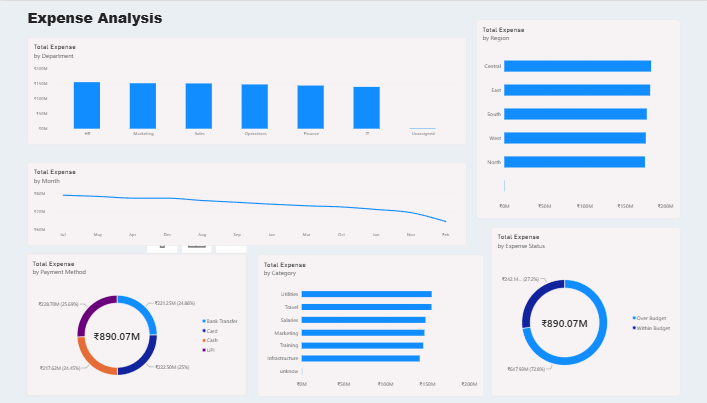

The page's visual inventory and layout, read from the dashboard file:
{"tool":"powerbi","page":{"name":"Page 2","canvas":[1900,1080],"ordinal":1},"visuals":[{"type":"textbox","box":[10.3,0,279.9,98.8],"z":0},{"type":"textbox","box":[74,18,1846,154],"z":1000},{"type":"barChart","fields":{"Category":["Financial_Expenses.Category"],"Y":["Financial_Expenses.Total Expense"]},"box":[688,676,604,378],"z":2000},{"type":"columnChart","fields":{"Category":["Financial_Expenses.Department"],"Y":["Financial_Expenses.Total Expense"]},"box":[74,96,1170,286],"z":3000},{"type":"barChart","fields":{"Category":["Financial_Expenses.Region"],"Y":["Financial_Expenses.Total Expense"]},"box":[1270,50,544,530],"z":4000},{"type":"donutChart","fields":{"Series":["Financial_Expenses.Payment Method"],"Y":["Financial_Expenses.Total Expense"]},"box":[70,674,590,378],"z":5000},{"type":"lineChart","fields":{"Category":["DateTable.Month"],"Y":["Financial_Expenses.Total Expense"]},"box":[74,430,1170,222],"z":6000},{"type":"donutChart","fields":{"Category":["Financial_Expenses.Expense Status"],"Y":["Financial_Expenses.Total Expense"]},"box":[1310,602,504,450],"z":7000}]}

Visuals, with their boxes in screenshot pixels (x1, y1, x2, y2), scaled from the page's 1900x1080 canvas onto the 707x403 screenshot:
textbox: detection(4, 0, 108, 37)
textbox: detection(28, 7, 706, 64)
barChart - Financial_Expenses.Category x Financial_Expenses.Total Expense: detection(256, 252, 481, 393)
columnChart - Financial_Expenses.Department x Financial_Expenses.Total Expense: detection(28, 36, 463, 143)
barChart - Financial_Expenses.Region x Financial_Expenses.Total Expense: detection(473, 19, 675, 216)
donutChart - Financial_Expenses.Payment Method x Financial_Expenses.Total Expense: detection(26, 252, 246, 393)
lineChart - DateTable.Month x Financial_Expenses.Total Expense: detection(28, 160, 463, 243)
donutChart - Financial_Expenses.Expense Status x Financial_Expenses.Total Expense: detection(487, 225, 675, 393)
